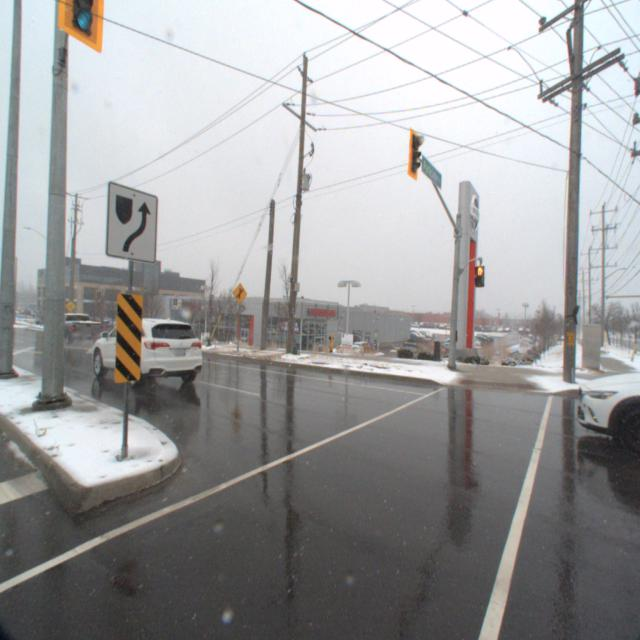Car: (80, 311, 209, 390)
Truck: (46, 314, 104, 354)
